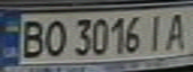0: (90, 15, 112, 56)
1: (109, 13, 127, 55)
3: (69, 16, 93, 57)
6: (124, 12, 148, 54)
A: (160, 9, 193, 52)
B: (15, 17, 48, 60)
I: (142, 11, 169, 53)
O: (39, 17, 69, 59)
